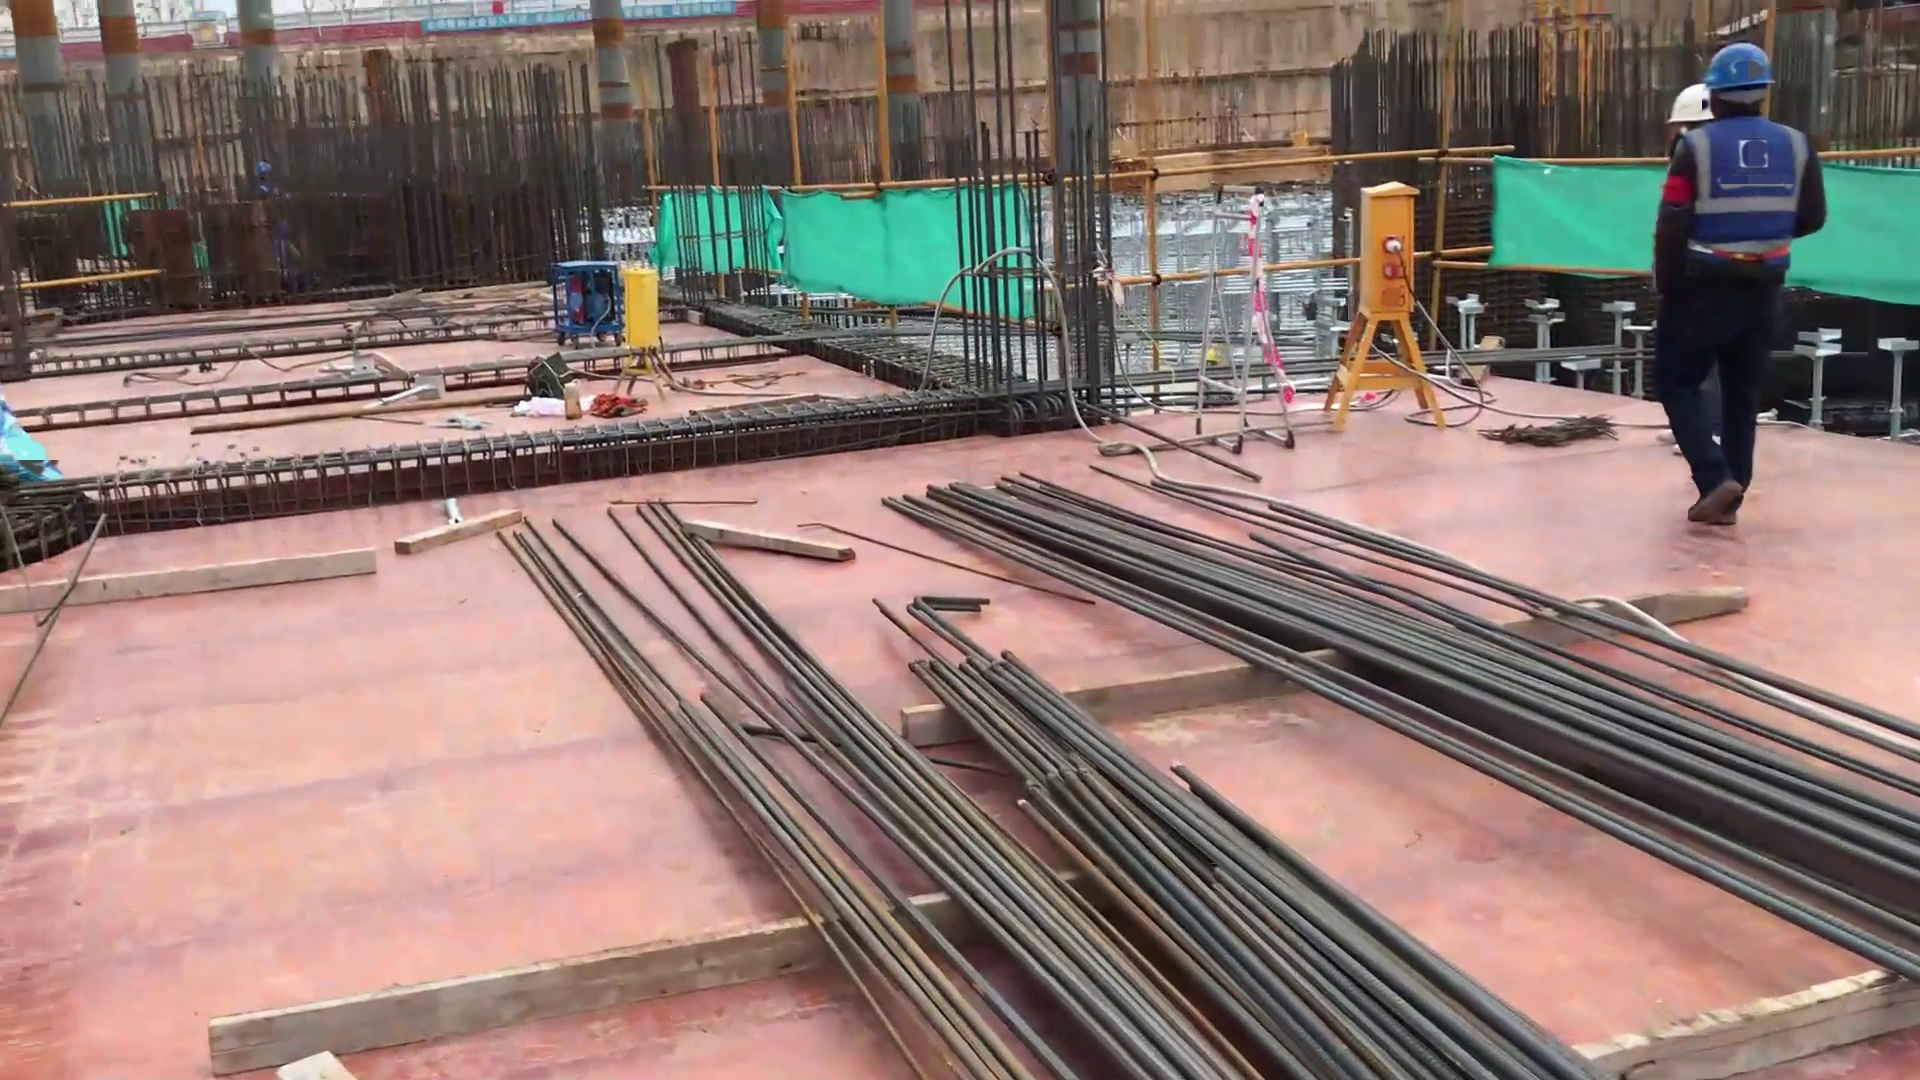ebox: (1334, 170, 1447, 444), (601, 256, 679, 391)
fence: (2, 1, 956, 55)
helmet: (1710, 36, 1777, 93), (1667, 80, 1726, 129), (1197, 346, 1223, 365)
person: (1652, 47, 1788, 524)
rebar: (483, 484, 1919, 1080)
slogan: (420, 3, 736, 40)
vest: (1679, 121, 1802, 257)
